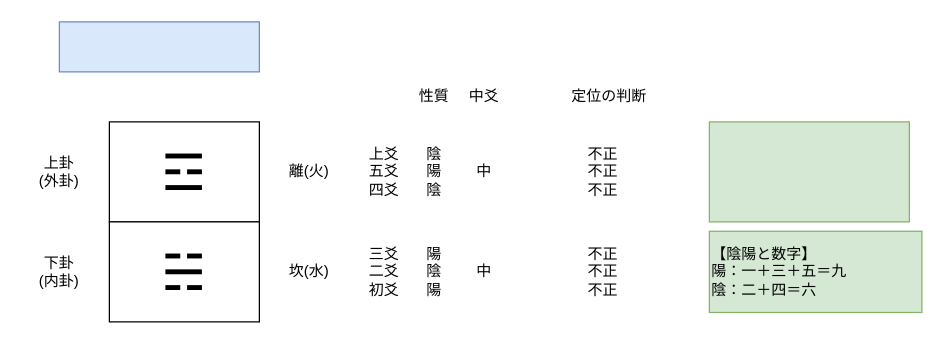
Some shapes in this 944 by 344 pixel diagram are drawn without their labels. Each missing label, with the centre of its shape:
【定位】 正：爻が性質と一致 不正： 爻が性質と不一致 剛中：五爻が陽 柔中：二爻が陰: (808,171)
卦：火水未済 （かすい びさい）: (158,46)
